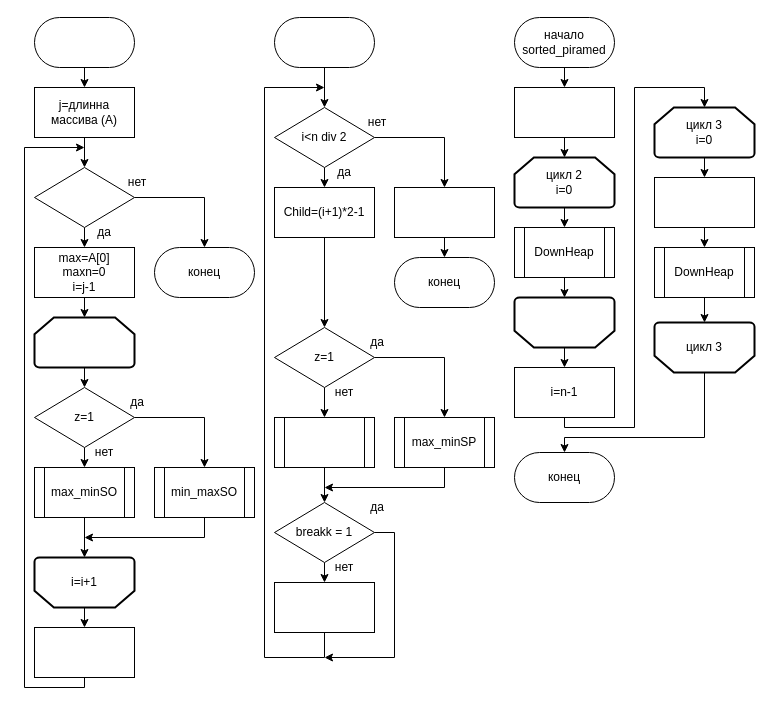
Image size: 773x713. Some labels were removed from this diagram. Each missing label, with the centre of its shape:
"A[i]=A[Child] i=Child" belongs at (x=324, y=607).
"A[i]=Current" belongs at (x=444, y=212).
"A[maxn]=A[j-1] A[j-1]=max j=j-1" belongs at (x=84, y=652).
"Current=A[i] A[i]=A[0]" belongs at (x=704, y=202).
"i=(n-1 div 2)-1" belongs at (x=564, y=112).
"j>0" belongs at (x=84, y=197).
"min_maxSP" belongs at (x=324, y=442).
"начало DownHeap" belongs at (x=324, y=42).
"начало sorted_obichnaia" belongs at (x=84, y=42).
"цикл 1 i=j-1" belongs at (x=84, y=342).
"цикл 2" belongs at (x=564, y=322).
